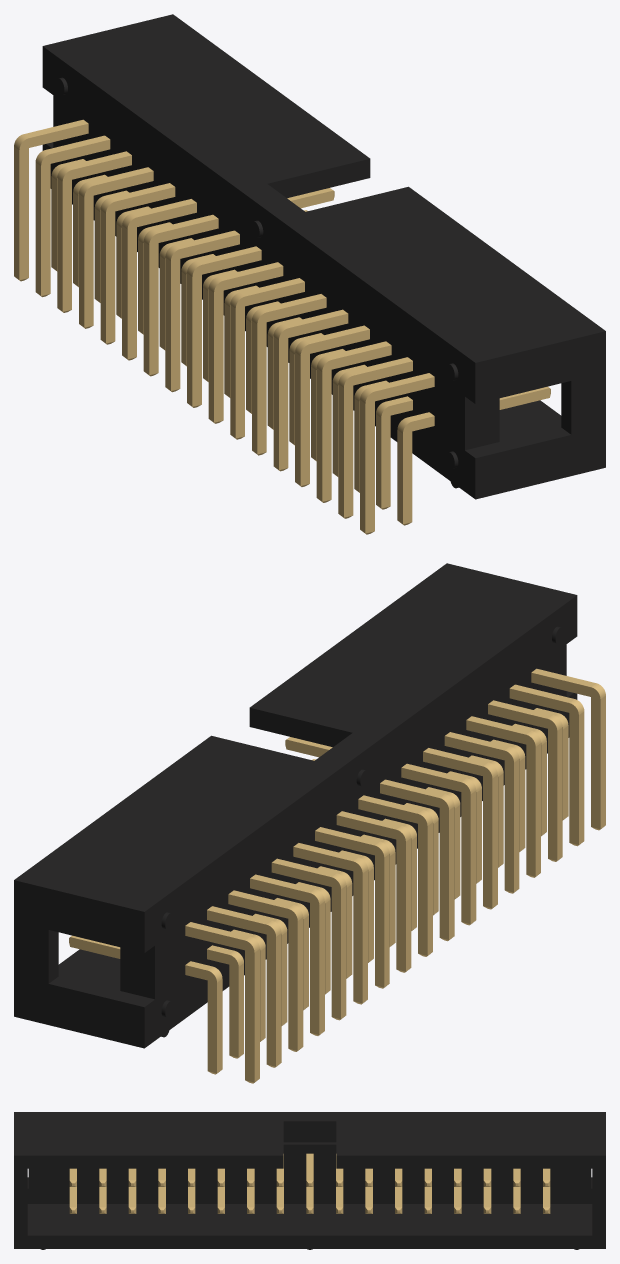
File: kc-idc-header_2x17_p2.54mm_horizontal.glb
The picture shows the model from 3 angles, top to bottom: view 1: azimuth 30°, elevation 25°; view 2: azimuth 150°, elevation 25°; view 3: azimuth 270°, elevation 25°; orthographic projection. The views are drawn at different scales.
Visible parts, largest first — view 1: 0_0_0_0, 0.75_0.5_0.25_0.9; view 2: 0_0_0_0, 0.75_0.5_0.25_0.9; view 3: 0_0_0_0, 0.75_0.5_0.25_0.9.
Part boxes in pixels (x1,y1,x2,y2): 0_0_0_0: (42, 14, 605, 499); 0.75_0.5_0.25_0.9: (14, 119, 550, 534); 0_0_0_0: (14, 563, 577, 1048); 0.75_0.5_0.25_0.9: (69, 668, 605, 1083); 0_0_0_0: (14, 1112, 605, 1249); 0.75_0.5_0.25_0.9: (69, 1153, 550, 1213).
Bounding box in the file's own units: 1.35 × 1.21 × 5.08.
